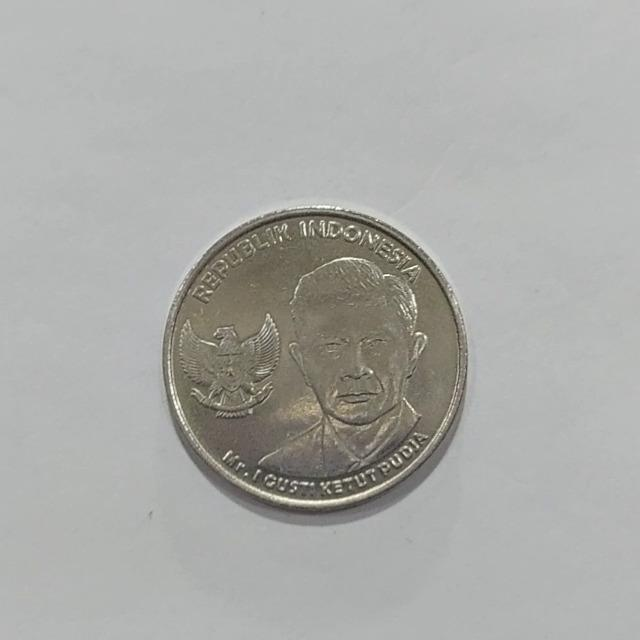Rp100: (161, 204, 469, 514), (251, 253, 431, 482)
